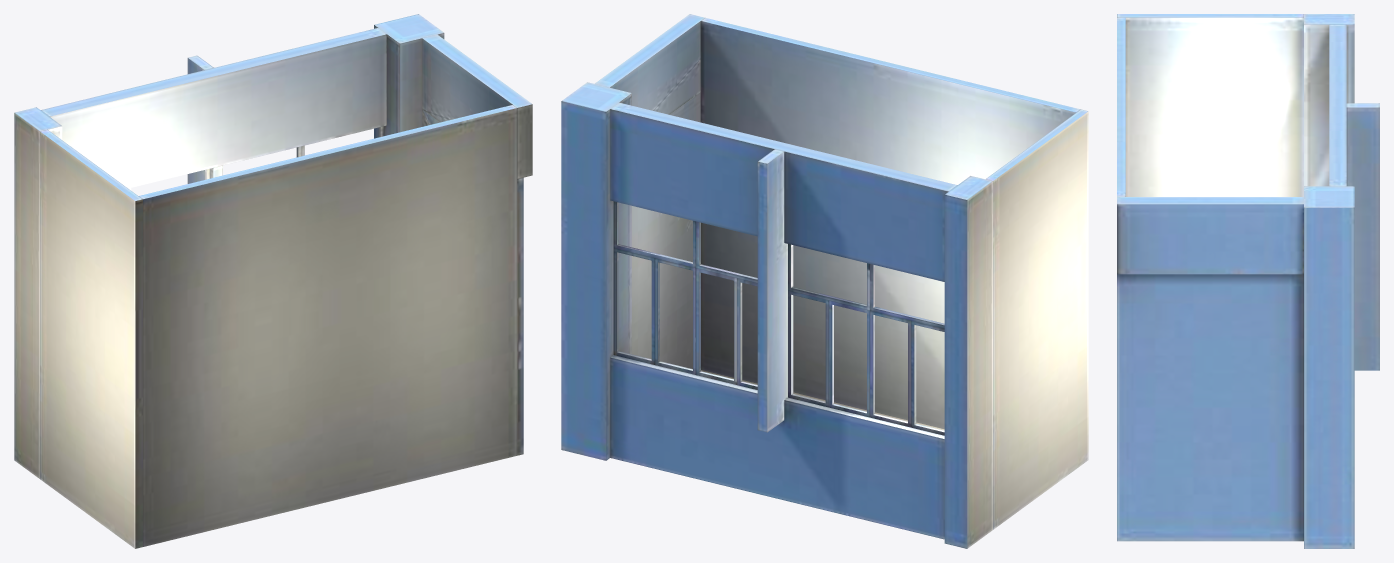
3 renders of one model, left to right at view 1: azimuth 30°, elevation 25°; view 2: azimuth 150°, elevation 25°; view 3: azimuth 270°, elevation 25°, orthographic. The views are drawn at different scales.
Parts seen in each view (by area): view 1: HC8_0; view 2: HC8_0; view 3: HC8_0.
Boxes of the visible parts, bbox=[...] form: HC8_0: bbox=[14, 14, 532, 548]; HC8_0: bbox=[561, 14, 1088, 548]; HC8_0: bbox=[1117, 14, 1379, 548].
Bounding box in the file's own units: 0.635 × 0.5218 × 0.364.
